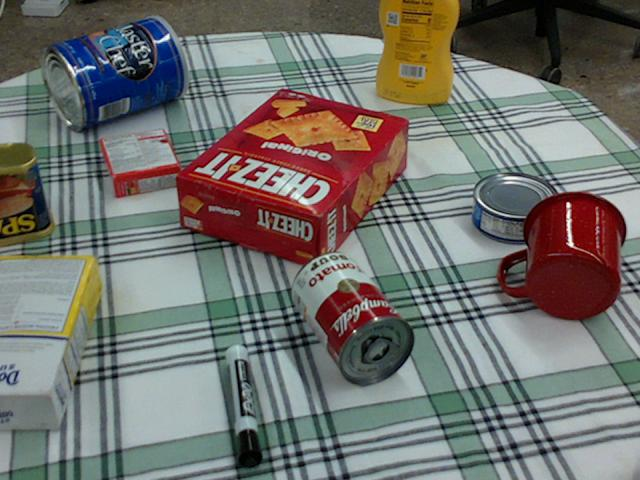cracker_box: (174, 88, 410, 269)
gelatin_box: (99, 128, 182, 198)
large_marker: (226, 344, 261, 470)
master_chef_can: (41, 16, 189, 132)
mug: (499, 189, 625, 319)
mustard_bottle: (375, 0, 459, 104)
potted_meat_can: (0, 141, 55, 245)
sugar_box: (0, 254, 98, 428)
tomato_soup_can: (291, 249, 414, 384)
tuna_fish_can: (473, 171, 561, 243)
